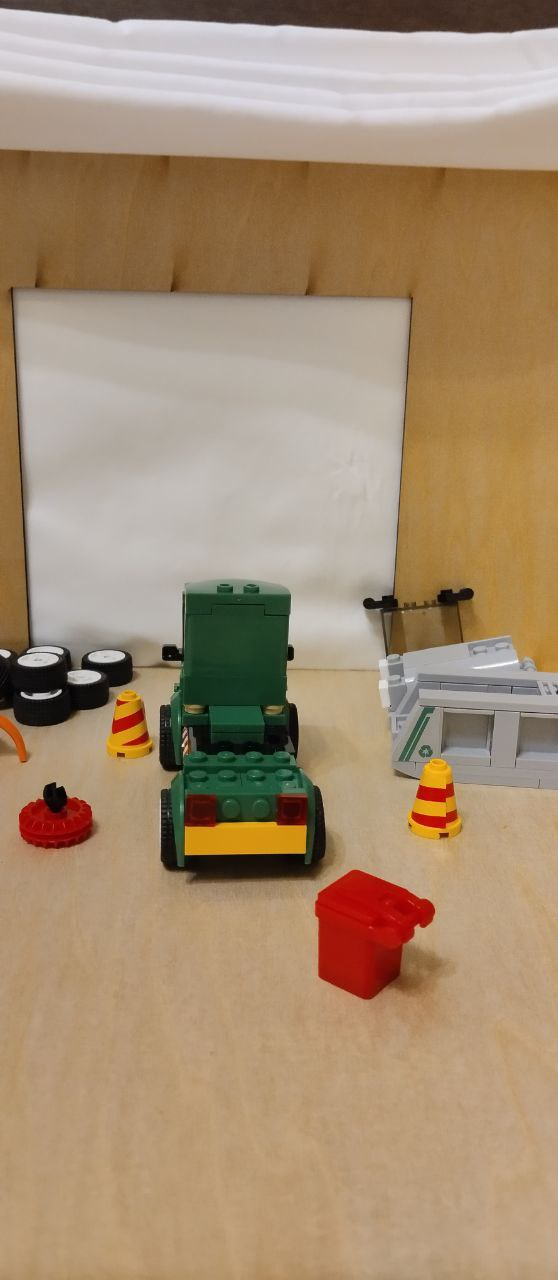Cone: (406, 761, 468, 841), (103, 692, 156, 765)
Object Red: (313, 868, 447, 1000)
Truck: (146, 575, 347, 895)
